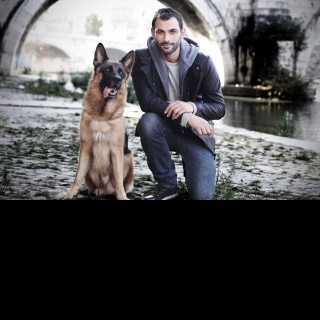without_mask: (154, 16, 181, 54)
